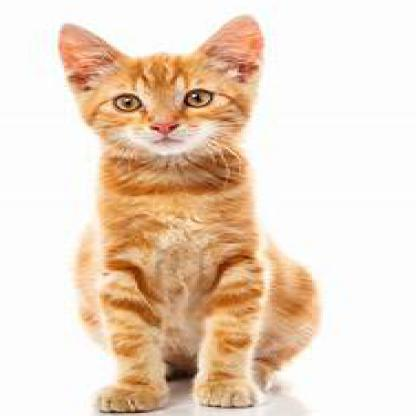cat: (57, 14, 321, 414)
